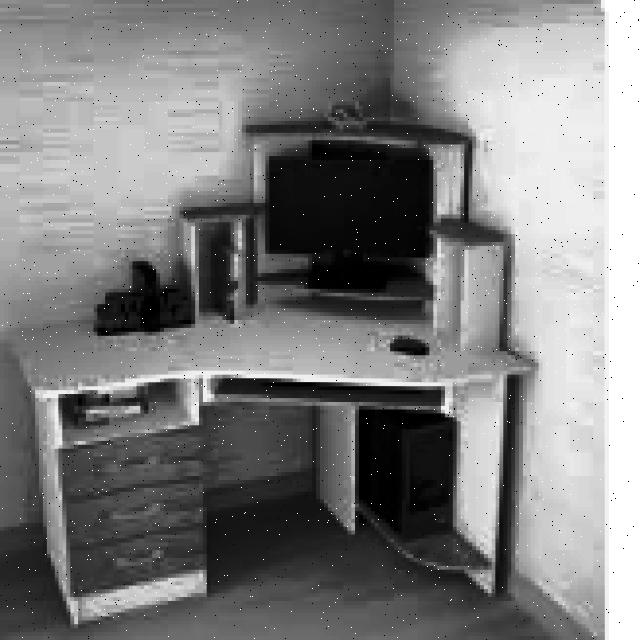table: (8, 289, 534, 624)
